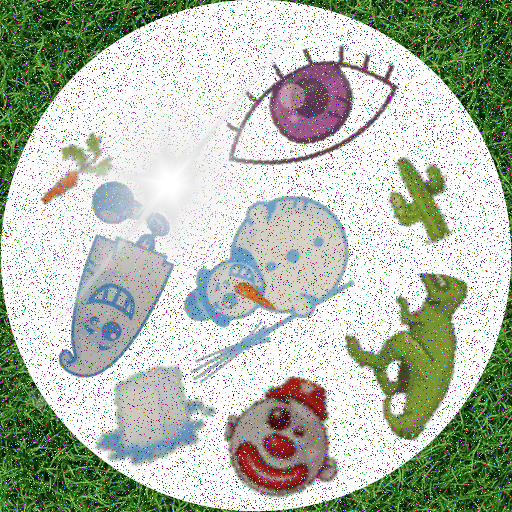cactus_icon: (371, 153, 469, 251)
carrot_icon: (34, 130, 125, 221)
clown_icon: (224, 376, 351, 503)
cube_icon: (83, 342, 218, 477)
dino_icon: (343, 273, 512, 442)
eye_icon: (216, 18, 404, 206)
ghost_icon: (7, 181, 215, 389)
snowman_icon: (159, 189, 370, 400)
